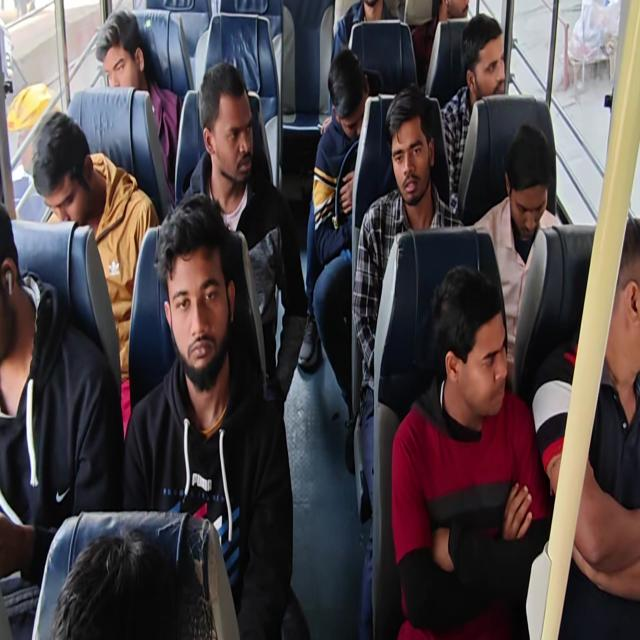person: (1, 2, 638, 638), (122, 192, 296, 638), (352, 84, 464, 637), (391, 263, 552, 638), (0, 202, 124, 638), (532, 213, 640, 638), (178, 61, 308, 410), (31, 110, 159, 439), (467, 122, 561, 390), (310, 47, 371, 442), (95, 8, 183, 188), (50, 528, 178, 639), (440, 13, 506, 215), (324, 0, 400, 133), (411, 0, 470, 88), (330, 0, 400, 63)
